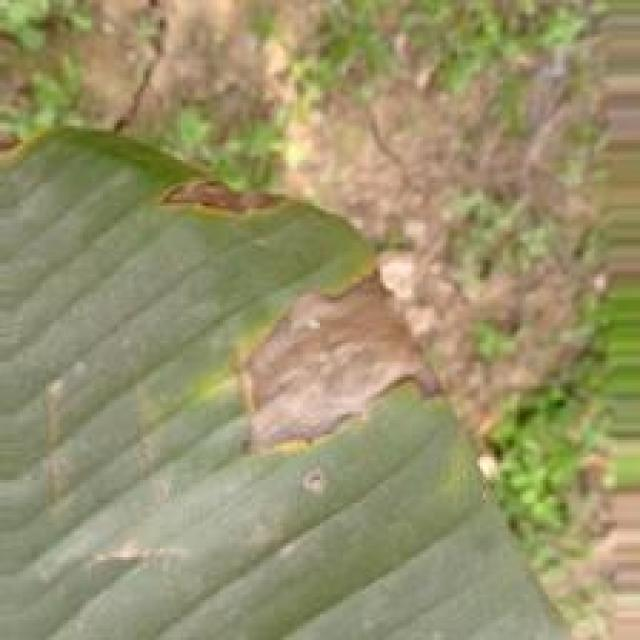Bacterial_spot: (211, 256, 455, 449), (148, 158, 312, 230), (76, 518, 210, 590), (119, 355, 170, 488), (38, 359, 82, 501)
